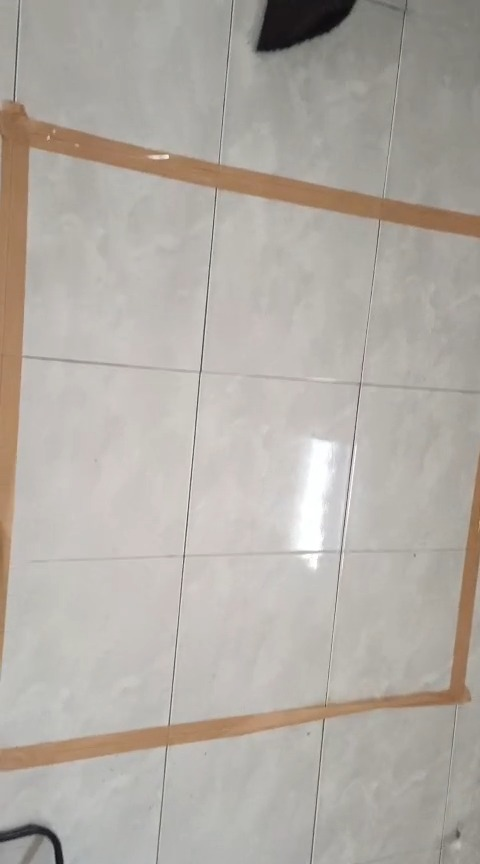floor marking: (0, 103, 479, 664), (2, 461, 479, 769)
